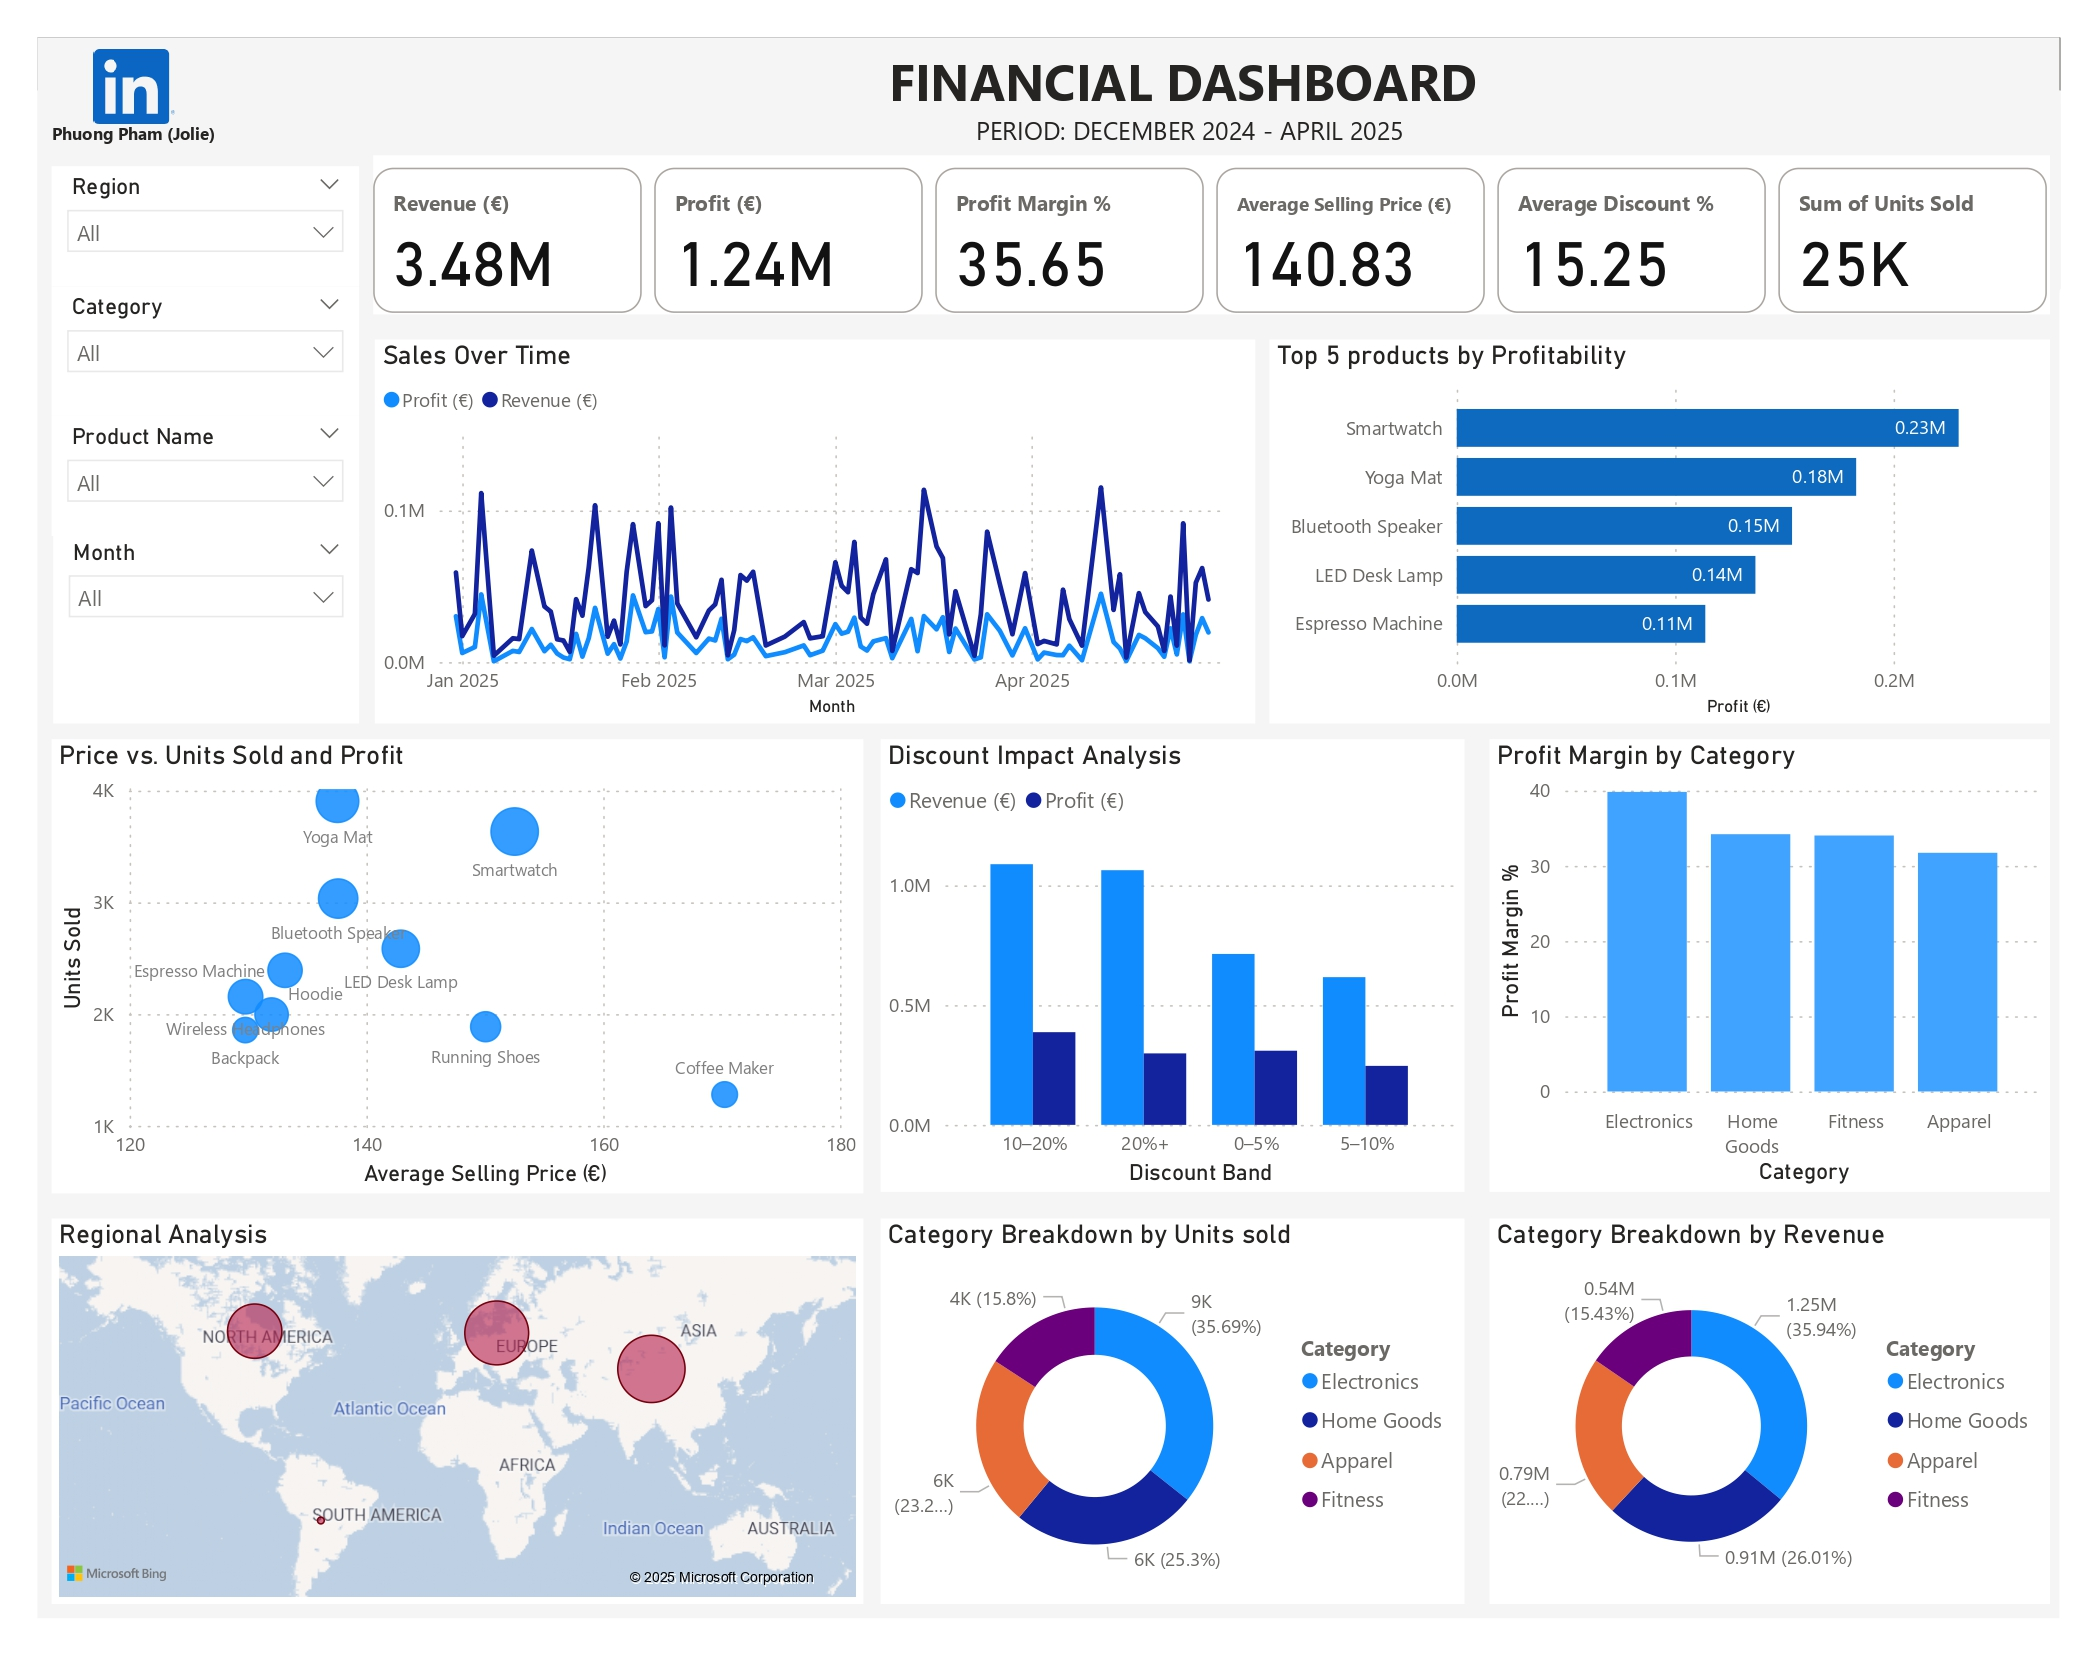

This screenshot's page, from the dashboard's own definition file:
{"tool":"powerbi","page":{"name":"Dashboard","canvas":[1295,1012],"ordinal":0},"visuals":[{"type":"textbox","box":[206,0,1064,78],"z":0},{"type":"slicer","fields":{"Values":["SalesData.Region"]},"box":[8.6,81.9,197.1,77.1],"z":0,"group":"g2"},{"type":"cardVisual","fields":{"Data":["SalesData.Revenue (€)","SalesData.Profit (€)","SalesData.Profit Margin %","SalesData.Average Selling Price (€)","SalesData.Average Discount %","Sum(SalesData.Units Sold)"]},"box":[215.4,75.4,1073.8,101.5],"z":1000},{"type":"slicer","fields":{"Values":["SalesData.Category"]},"box":[8.6,159,197.1,82.9],"z":1000,"group":"g2"},{"type":"lineChart","title":"Sales Over Time","fields":{"Y":["SalesData.Profit (€)","SalesData.Revenue (€)"],"Category":["SalesData.Date Sold.Variation.Date Hierarchy.Year","SalesData.Date Sold.Variation.Date Hierarchy.Quarter","SalesData.Date Sold.Variation.Date Hierarchy.Month","SalesData.Date Sold.Variation.Date Hierarchy.Day"]},"box":[215.7,193.3,564.3,245.7],"z":2000},{"type":"slicer","fields":{"Values":["SalesData.Product Name"]},"box":[8.6,242.1,197.1,77.1],"z":2000,"group":"g2"},{"type":"clusteredBarChart","title":"Top 5 products by Profitability ","fields":{"Category":["SalesData.Product Name"],"Y":["SalesData.Profit (€)"]},"box":[788.6,193.3,500,245.7],"z":3000},{"type":"slicer","fields":{"Values":["SalesData.Date Sold.Variation.Date Hierarchy.Month"]},"box":[10,316.4,195.7,122.9],"z":3000,"group":"g2"},{"type":"donutChart","title":"Category Breakdown by Units sold","fields":{"Category":["SalesData.Category"],"Y":["Sum(SalesData.Units Sold)"]},"box":[540,755.7,374.3,247.1],"z":4000},{"type":"donutChart","title":"Category Breakdown by Revenue","fields":{"Category":["SalesData.Category"],"Y":["SalesData.Revenue (€)"]},"box":[930,755.7,358.6,247.1],"z":5000},{"type":"map","title":"Regional Analysis","fields":{"Category":["SalesData.Region"],"Size":["SalesData.Revenue (€)"]},"box":[8.6,755.7,520,247.1],"z":6000},{"type":"scatterChart","title":"Price vs. Units Sold and Profit","fields":{"X":["SalesData.Average Selling Price (€)"],"Y":["Sum(SalesData.Units Sold)"],"Size":["SalesData.Profit (€)"],"Category":["SalesData.Product Name"]},"box":[9.2,449.2,520,290.8],"z":7000},{"type":"columnChart","title":"Profit Margin by Category","fields":{"Category":["SalesData.Category"],"Y":["SalesData.Profit Margin %"]},"box":[930,448.6,358.6,290],"z":8000},{"type":"group","id":"g1","title":"Group 1","box":[0,0,122.9,77.1],"z":9000},{"type":"image","box":[31.4,0,61.4,61.4],"z":10000,"group":"g1"},{"type":"group","id":"g2","title":"Group 2","box":[8.6,81.9,197.1,357.3],"z":10000},{"type":"textbox","box":[0,45.7,122.9,31.4],"z":11000,"group":"g1"},{"type":"clusteredColumnChart","title":"Discount Impact Analysis","fields":{"Category":["SalesData.Discount Band"],"Y":["SalesData.Revenue (€)","SalesData.Profit (€)"]},"box":[540,449,374.3,290],"z":11000}]}

Visuals, with their boxes on the page's 1295x1012 design canvas (x1, y1, x2, y2). These are canvas units, not pixel positions in the 2098x1656 screenshot, which may show the page scaled, cropped or inside an application window:
textbox: crop(206, 0, 1270, 78)
slicer - SalesData.Region: crop(9, 82, 206, 159)
cardVisual - SalesData.Revenue (€) x SalesData.Profit (€): crop(215, 75, 1289, 177)
slicer - SalesData.Category: crop(9, 159, 206, 242)
"Sales Over Time" lineChart: crop(216, 193, 780, 439)
slicer - SalesData.Product Name: crop(9, 242, 206, 319)
"Top 5 products by Profitability " clusteredBarChart: crop(789, 193, 1289, 439)
slicer - SalesData.Date Sold.Variation.Date Hierarchy.Month: crop(10, 316, 206, 439)
"Category Breakdown by Units sold" donutChart: crop(540, 756, 914, 1003)
"Category Breakdown by Revenue" donutChart: crop(930, 756, 1289, 1003)
"Regional Analysis" map: crop(9, 756, 529, 1003)
"Price vs. Units Sold and Profit" scatterChart: crop(9, 449, 529, 740)
"Profit Margin by Category" columnChart: crop(930, 449, 1289, 739)
"Group 1" group: crop(0, 0, 123, 77)
image: crop(31, 0, 93, 61)
"Group 2" group: crop(9, 82, 206, 439)
textbox: crop(0, 46, 123, 77)
"Discount Impact Analysis" clusteredColumnChart: crop(540, 449, 914, 739)
